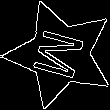M_E: (29, 25, 92, 83)
